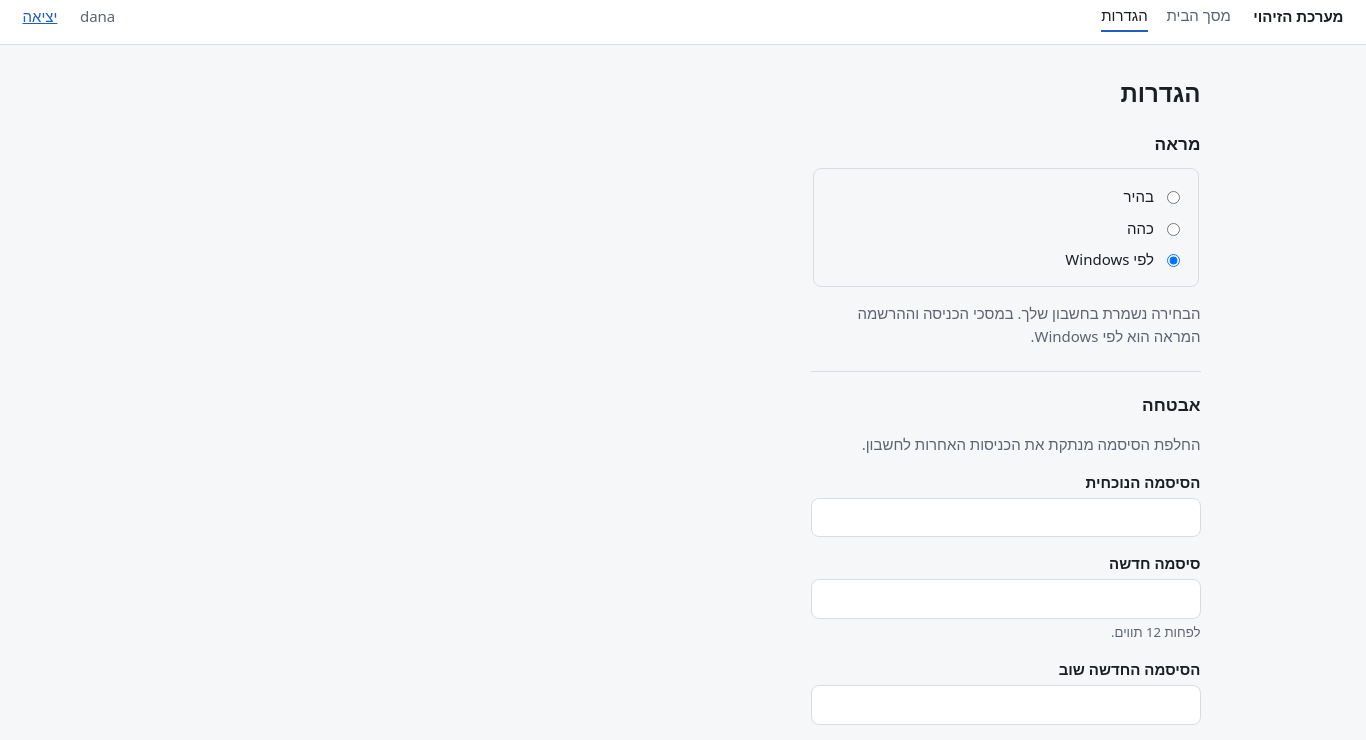
the settings › change the password in the security area, only with the current one (H28)
This screenshot has width=1366, height=740.
Expected: the heading "אבטחה" is shown, left=1142, top=393, right=1200, bottom=416
In the password field labelled "הסיסמה הנוכחית": (1006, 518) left=810, top=498, right=1200, bottom=537, type "not her password"
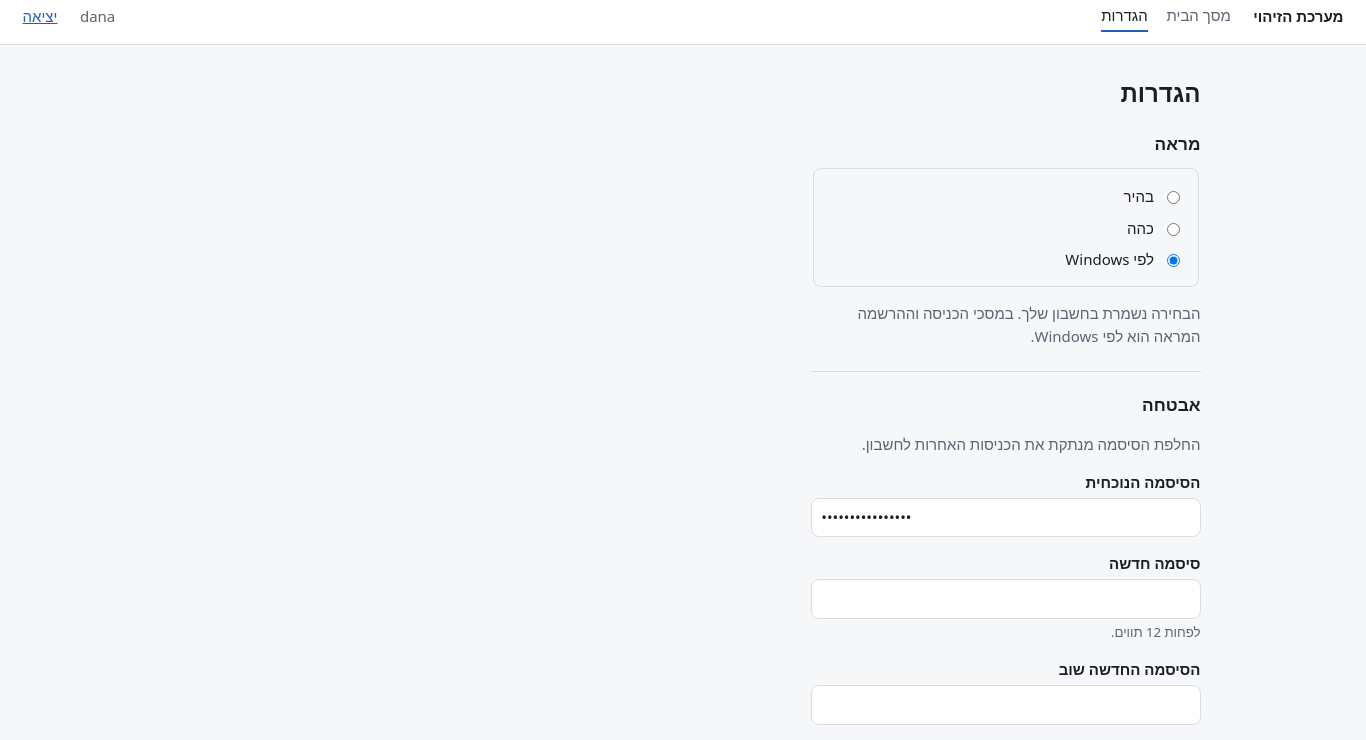
In the password field labelled "סיסמה חדשה": (1006, 599) left=810, top=579, right=1200, bottom=619, type "a new long password"
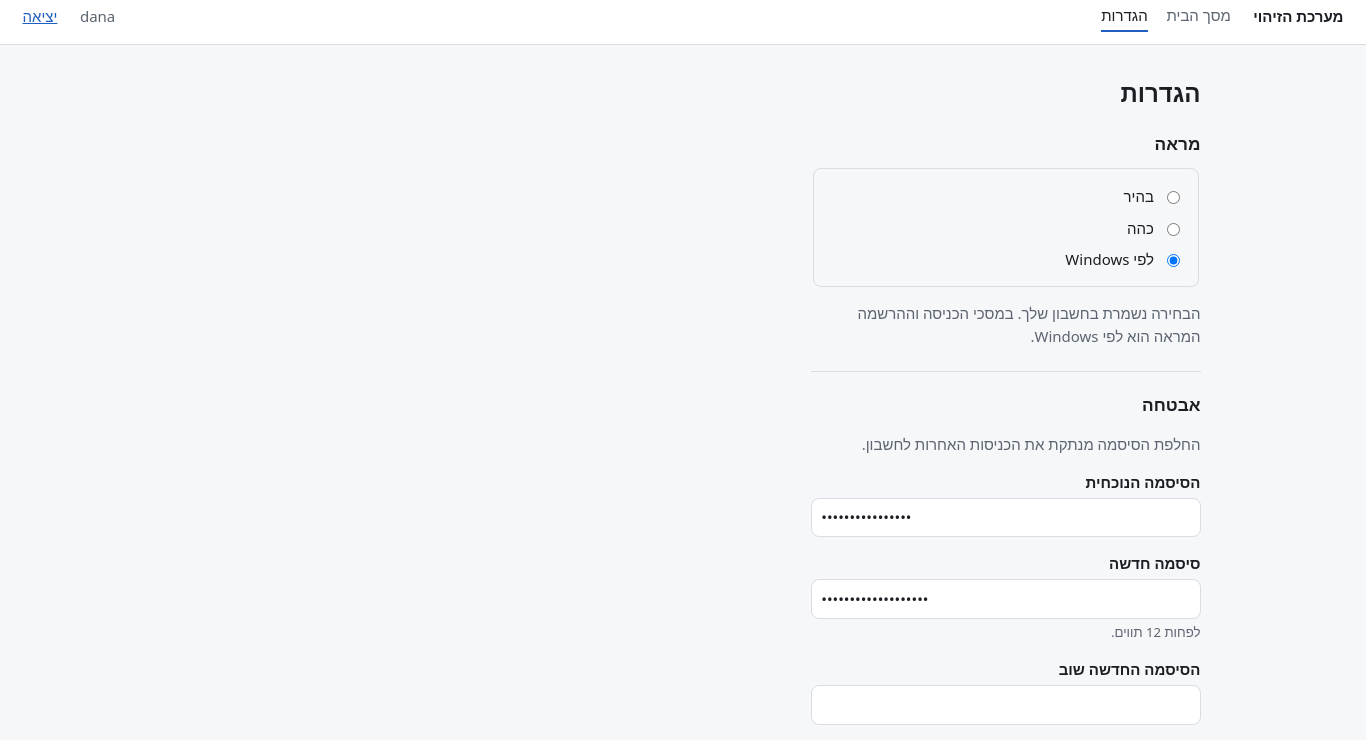
In the password field labelled "הסיסמה החדשה שוב": (1006, 705) left=810, top=685, right=1200, bottom=724, type "a new long password"
(page scrolled)
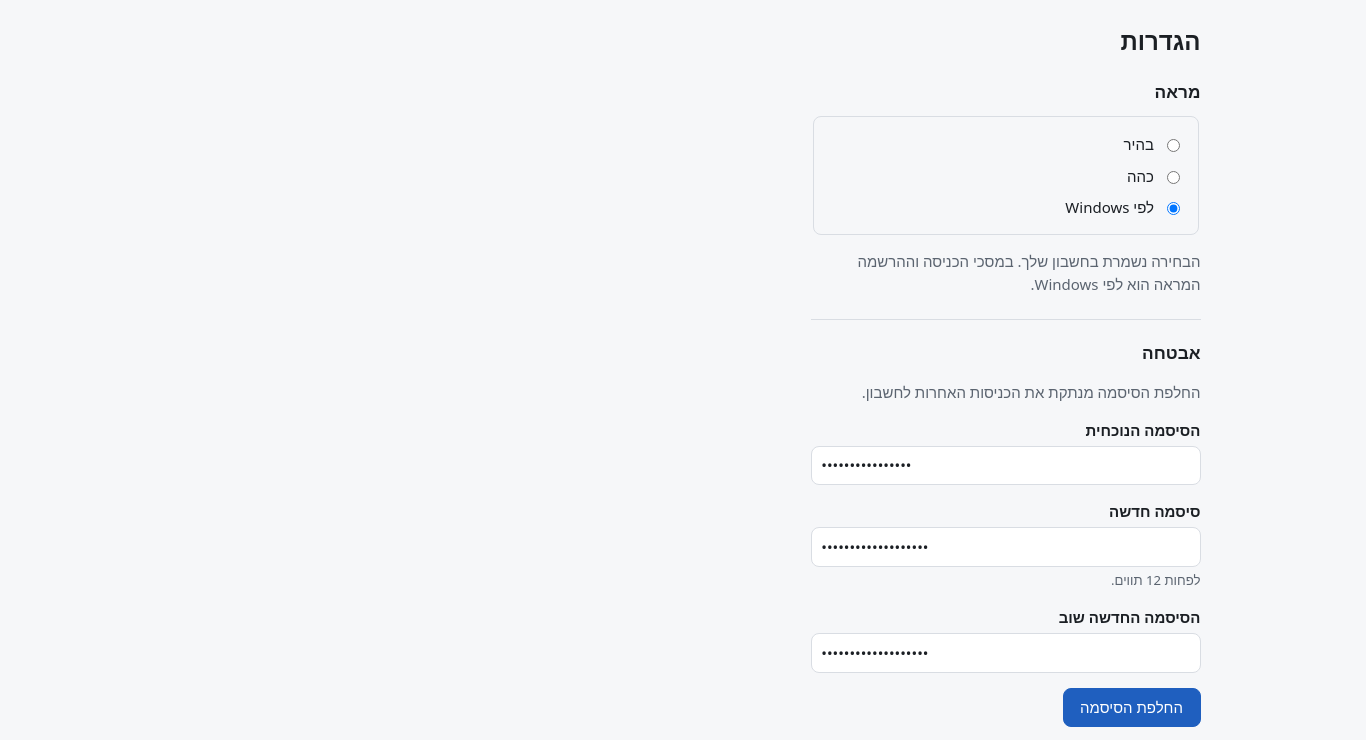
Click the button "החלפת הסיסמה": (1132, 707) left=1063, top=688, right=1200, bottom=727
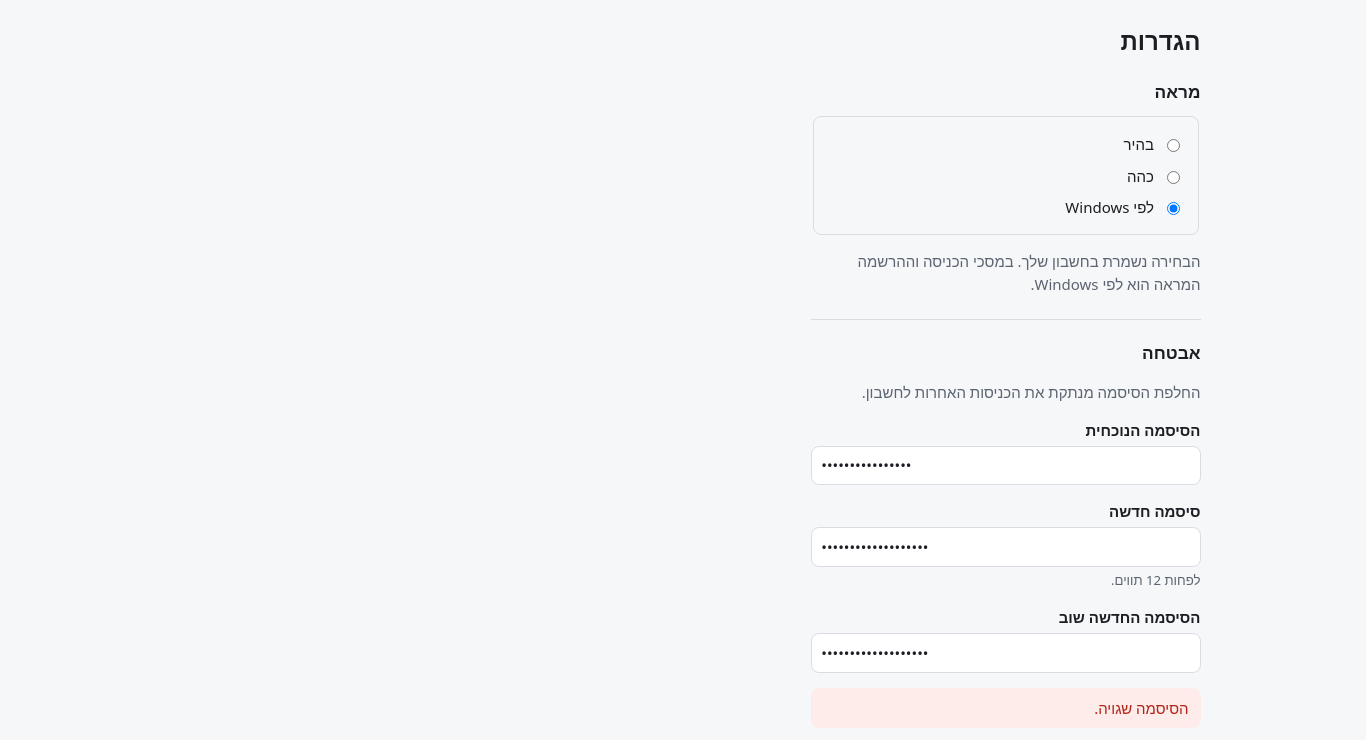
Expected: the text "הסיסמה שגויה." is shown, left=810, top=688, right=1200, bottom=728
In the password field labelled "הסיסמה הנוכחית": (1006, 466) left=810, top=446, right=1200, bottom=485, type "dana password 1"
(page scrolled)
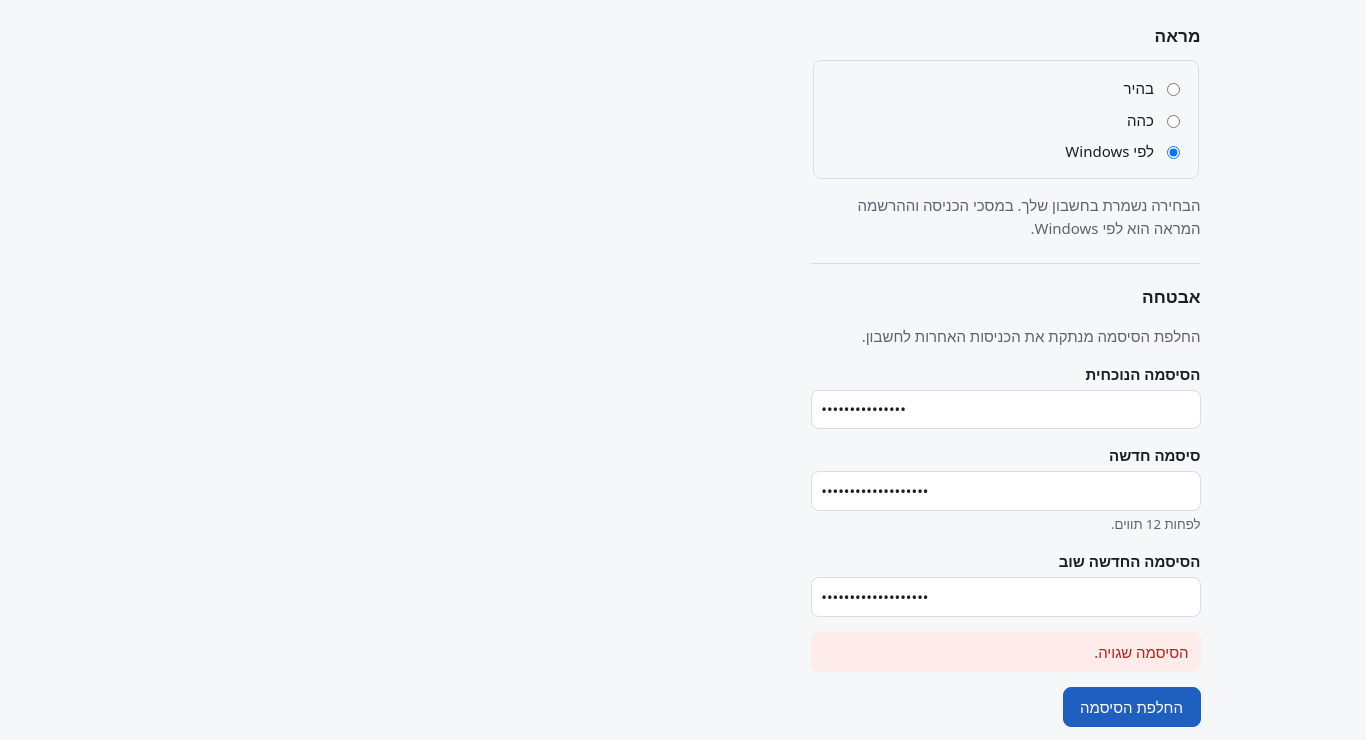
Click the button "החלפת הסיסמה": (1132, 707) left=1063, top=687, right=1200, bottom=726
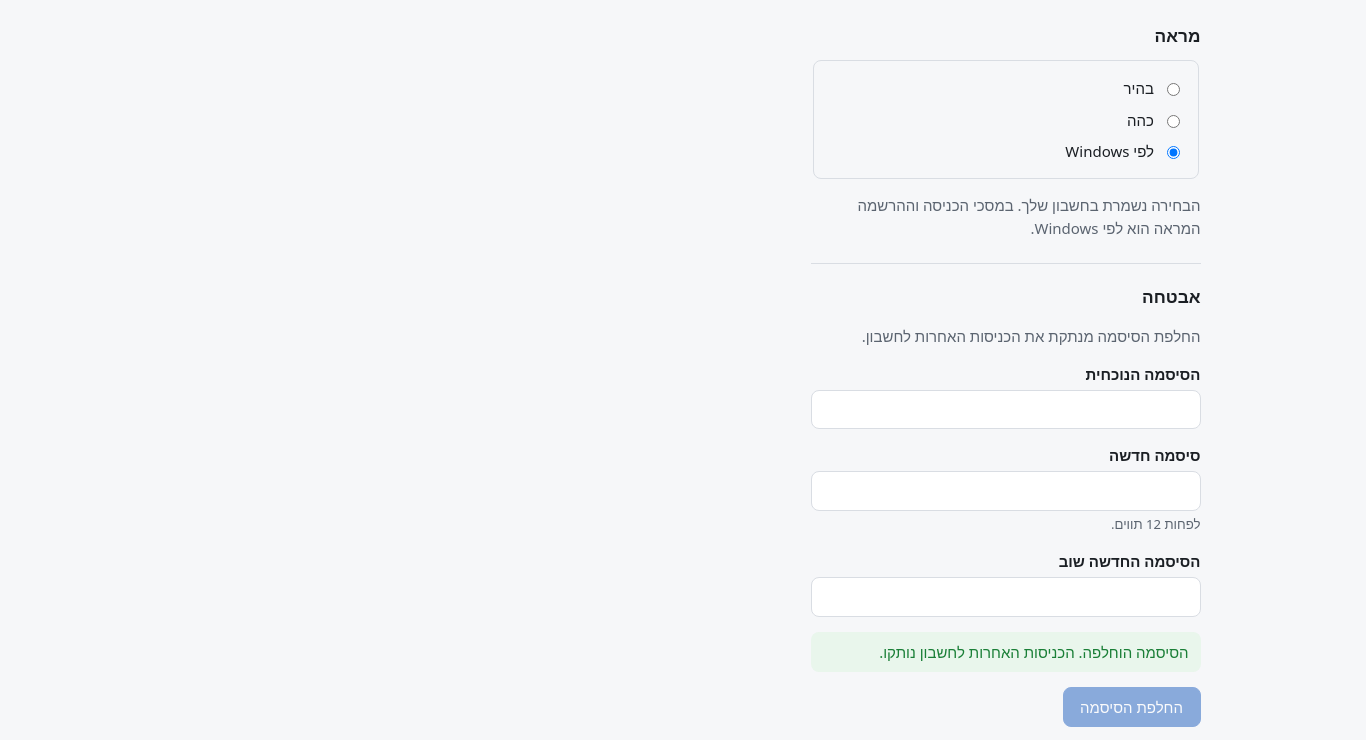
Expected: the text "הסיסמה הוחלפה. הכניסות האחרות לחשבון נותקו." is shown, left=810, top=632, right=1200, bottom=672
Expected: the password field labelled "הסיסמה הנוכחית" is empty, left=810, top=390, right=1200, bottom=429
